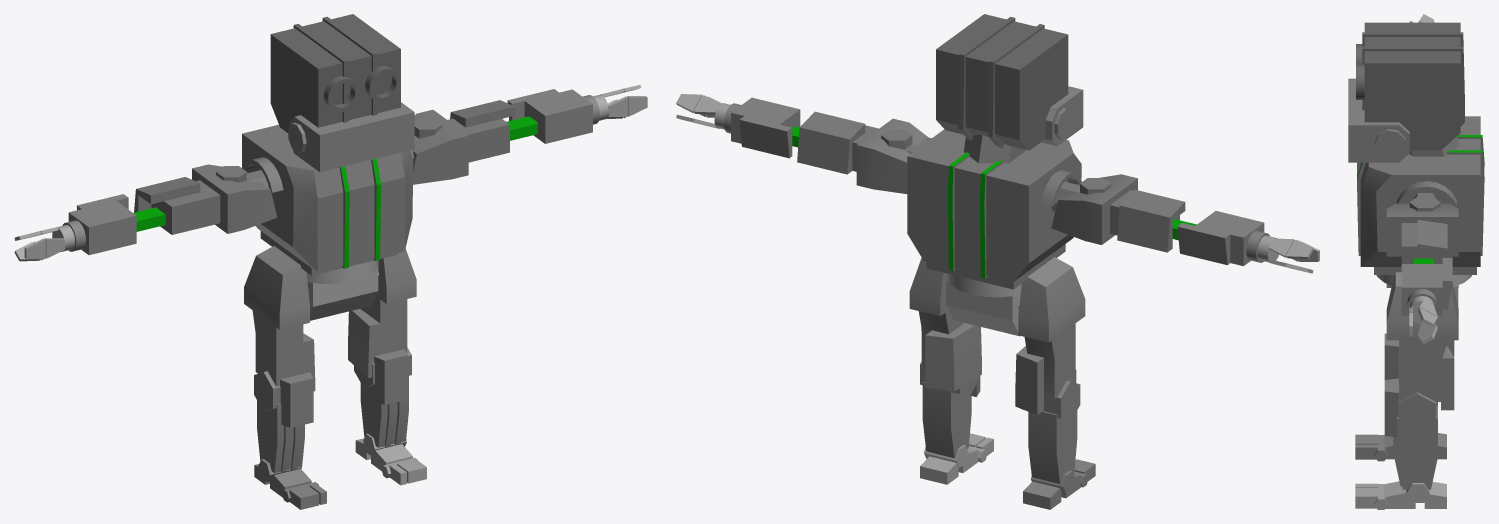
File: robo 1.fbx
The picture shows the model from 3 angles, left to right: view 1: azimuth 30°, elevation 25°; view 2: azimuth 150°, elevation 25°; view 3: azimuth 270°, elevation 25°; orthographic projection.
Parts seen in each view (by area): view 1: body, head, R_QUAD, R_Sholder, L_Sholder, jaw, L_QUAD, R_Thy, L_Thy, pCube14, Arm_pCube14, Legs1_pCylinder14 (+4 smaller); view 2: body, head, R_QUAD, R_Sholder, L_Sholder, L_QUAD, R_Thy, Arm_pCube14, L_Thy, pCube14, Legs1_pCylinder14, jaw (+2 smaller); view 3: head, body, L_QUAD, L_Thy, L_Sholder, jaw, pCube14, L_FootBall, R_Toe, L_Toe, R_Thy, R_FootBall (+4 smaller).
Part boxes in pixels (bbox=[...]): body: bbox=[242, 124, 418, 275]; head: bbox=[270, 14, 400, 132]; R_QUAD: bbox=[244, 246, 315, 391]; R_Sholder: bbox=[134, 164, 277, 234]; L_Sholder: bbox=[412, 100, 514, 184]; jaw: bbox=[288, 102, 414, 172]; L_QUAD: bbox=[348, 248, 416, 377]; R_Thy: bbox=[254, 371, 313, 473]; L_Thy: bbox=[354, 347, 411, 447]; pCube14: bbox=[507, 89, 599, 143]; Arm_pCube14: bbox=[62, 194, 136, 255]; Legs1_pCylinder14: bbox=[306, 260, 378, 320]; body: bbox=[905, 129, 1081, 289]; head: bbox=[936, 14, 1068, 150]; R_QUAD: bbox=[1015, 257, 1085, 414]; R_Sholder: bbox=[1051, 174, 1185, 252]; L_Sholder: bbox=[797, 111, 928, 193]; L_QUAD: bbox=[909, 258, 981, 391]; R_Thy: bbox=[1021, 369, 1080, 483]; Arm_pCube14: bbox=[1177, 211, 1269, 266]; L_Thy: bbox=[920, 361, 980, 458]; pCube14: bbox=[723, 97, 800, 158]; Legs1_pCylinder14: bbox=[945, 273, 1021, 336]; jaw: bbox=[1041, 86, 1083, 146]; head: bbox=[1356, 22, 1464, 150]; body: bbox=[1357, 116, 1484, 274]; L_QUAD: bbox=[1386, 272, 1458, 410]; L_Thy: bbox=[1384, 378, 1437, 489]; L_Sholder: bbox=[1386, 196, 1458, 263]; jaw: bbox=[1348, 78, 1409, 162]; pCube14: bbox=[1401, 258, 1452, 315]; L_FootBall: bbox=[1385, 481, 1446, 508]; R_Toe: bbox=[1355, 434, 1387, 461]; L_Toe: bbox=[1355, 483, 1387, 509]; R_Thy: bbox=[1384, 333, 1437, 405]; R_FootBall: bbox=[1385, 433, 1446, 459].
Bounding box in the file's own units: 14.68 × 9.82 × 2.77.
